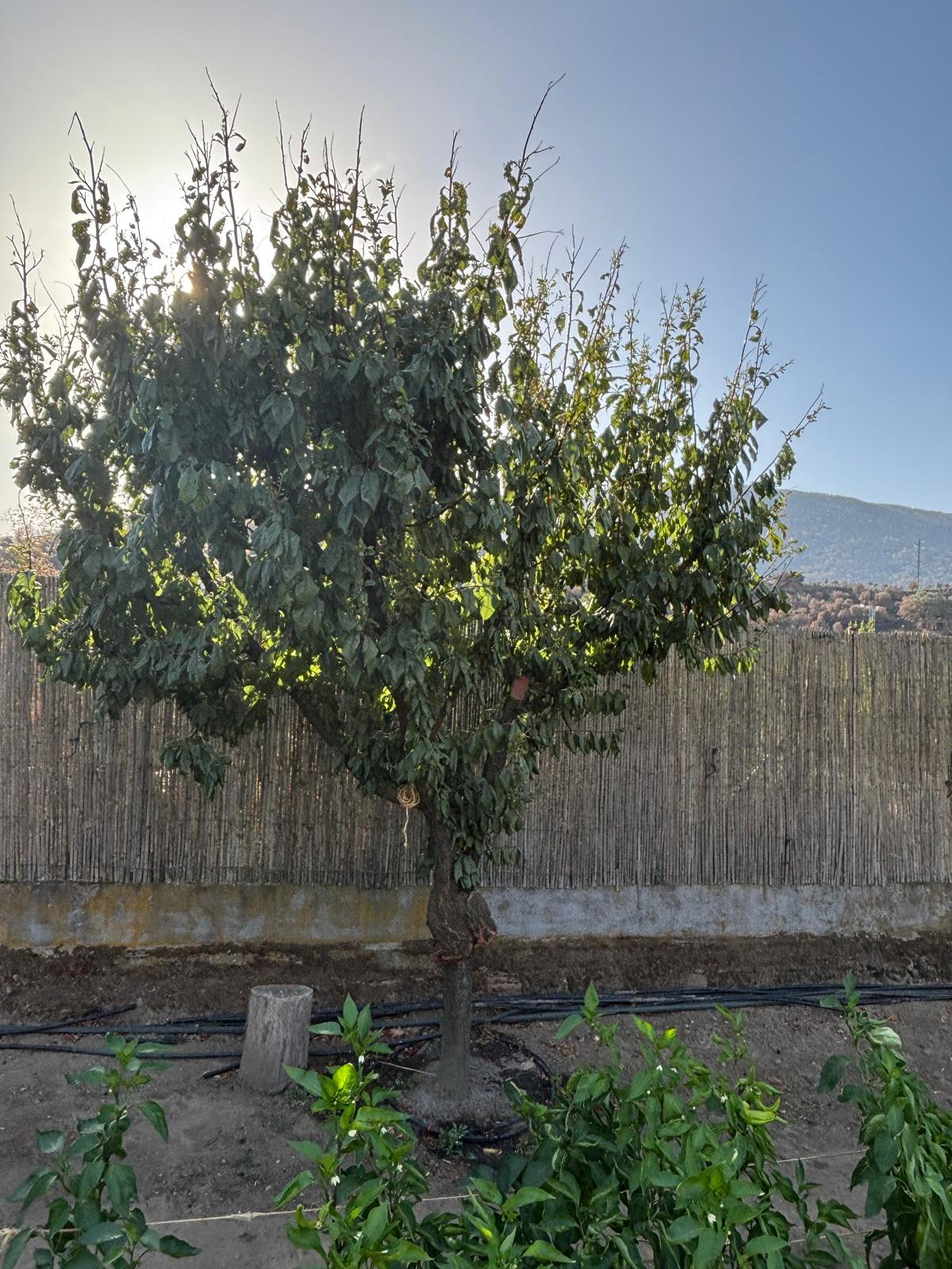ciruelo: (34, 191, 781, 1058)
